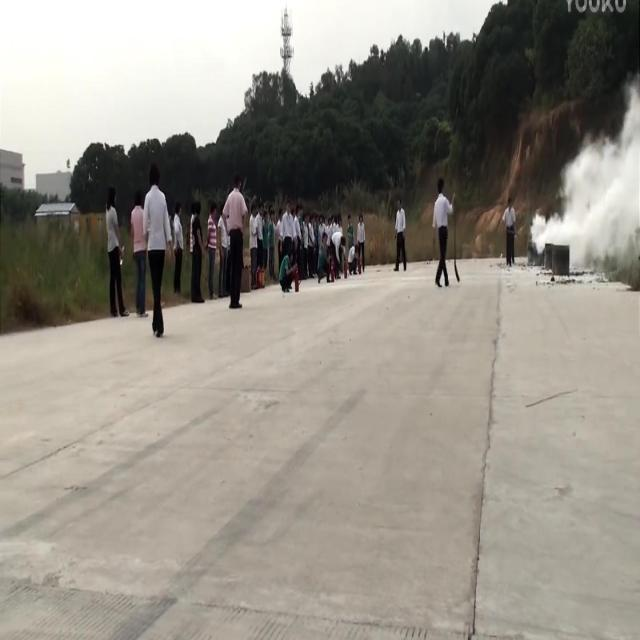smoke: (530, 76, 640, 256)
